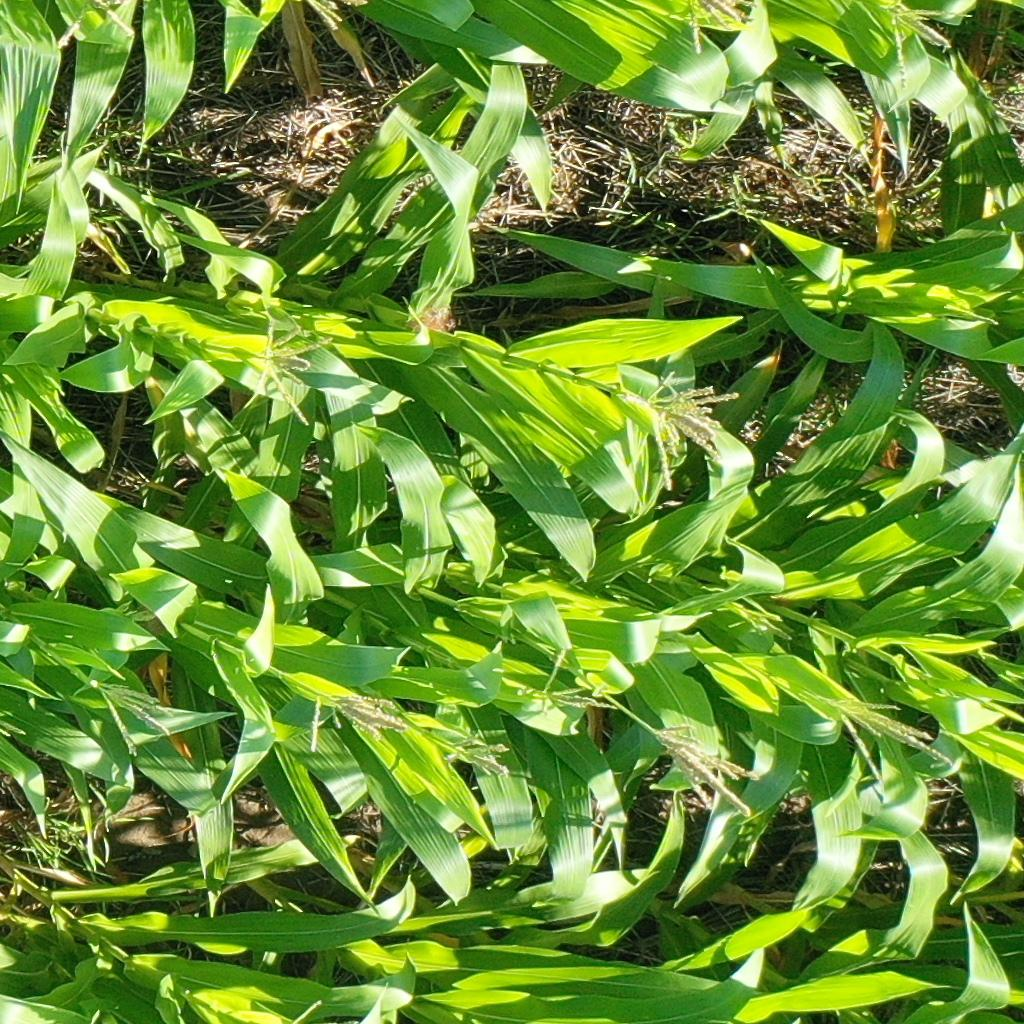Tassel: (821, 691, 956, 787), (642, 365, 741, 487), (647, 718, 762, 816), (252, 321, 339, 425), (881, 1, 974, 89), (301, 686, 407, 754), (91, 675, 175, 757), (526, 645, 618, 714), (687, 1, 764, 56), (56, 1, 135, 46), (441, 727, 513, 776), (740, 603, 793, 643), (307, 1, 368, 32)
